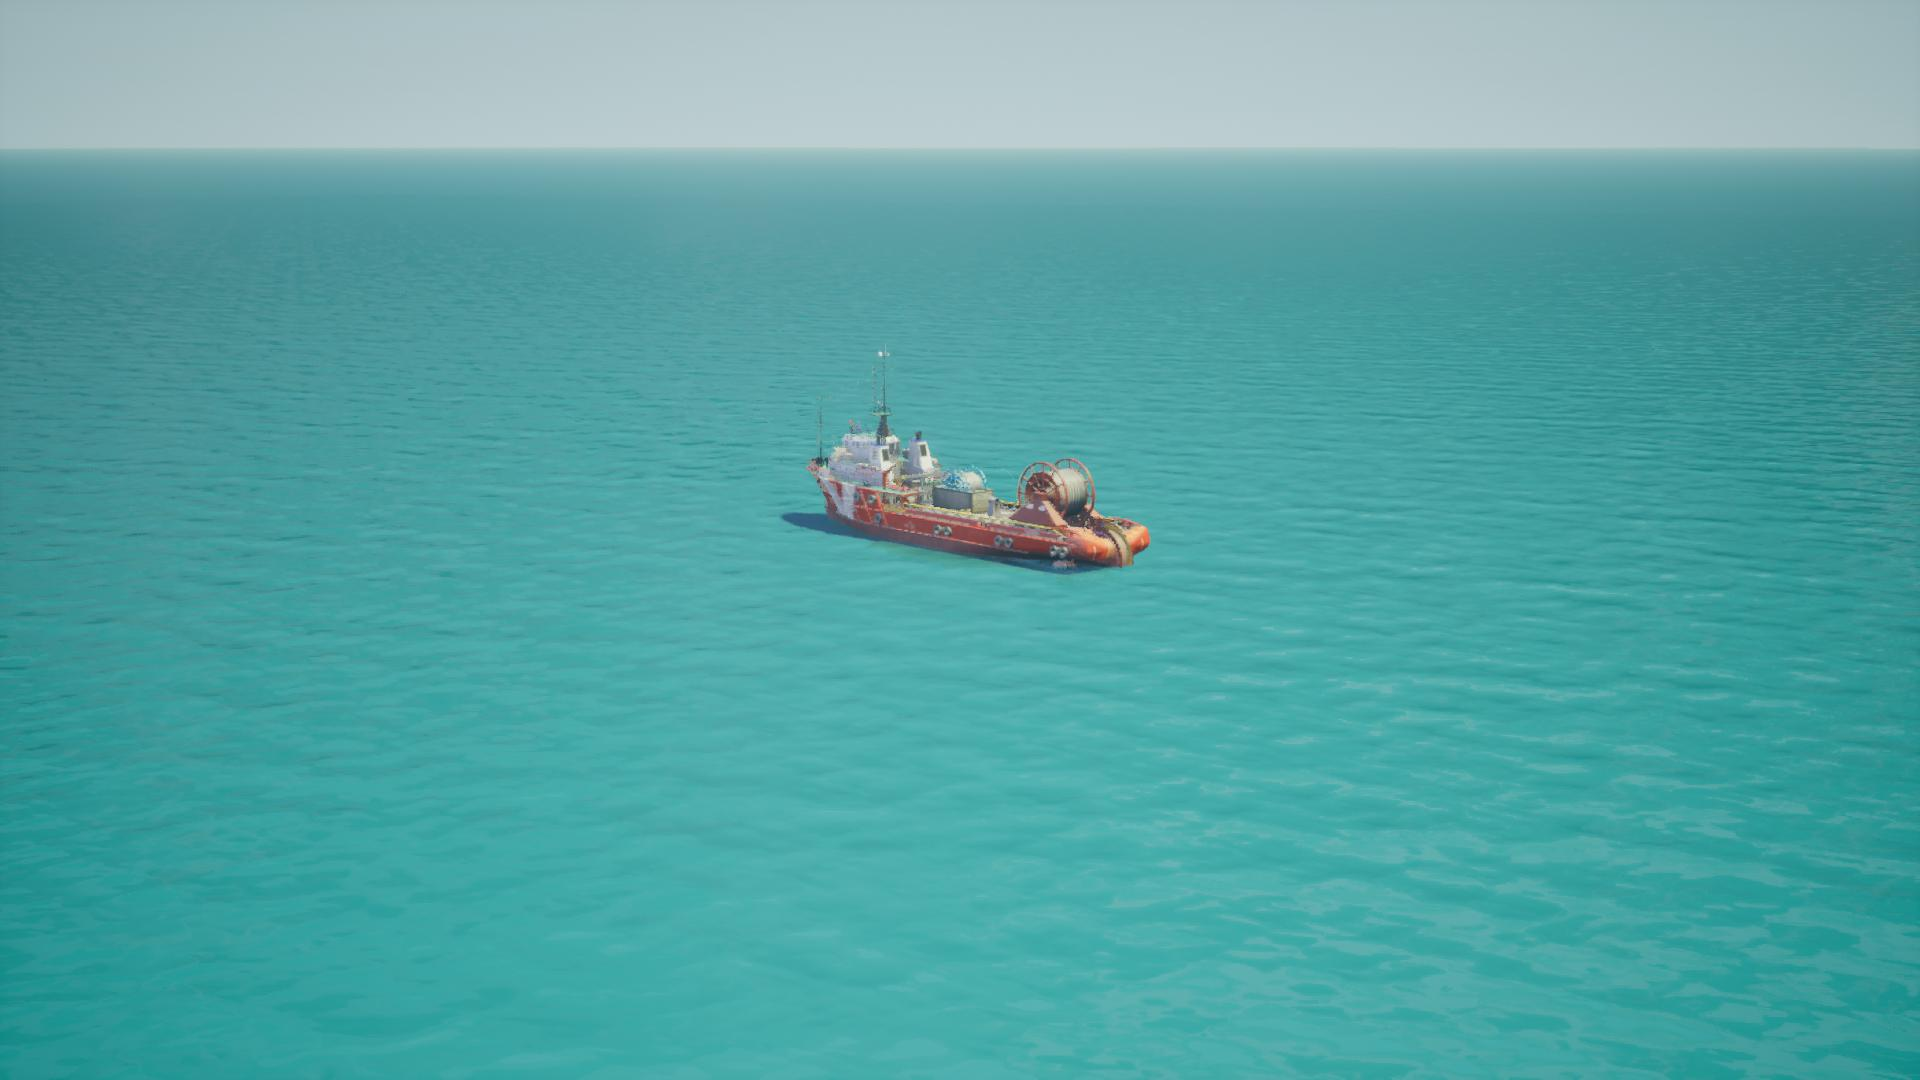Tug Boat: (785, 339, 1141, 576)
